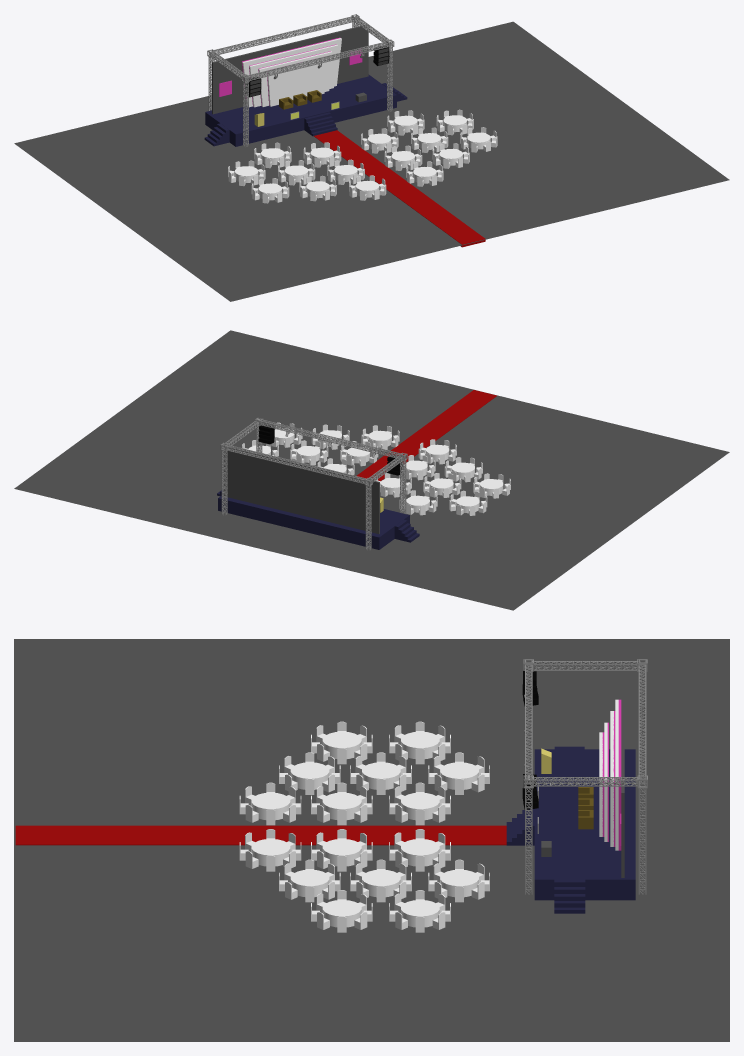
Rendered from vipdinner.glb.
3 views of the same model, one above another, from view 1: azimuth 30°, elevation 25°; view 2: azimuth 150°, elevation 25°; view 3: azimuth 270°, elevation 25° (orthographic). The views are drawn at different scales.
Parts seen in each view (by area): view 1: Plane001, Box001, Box6194, Box654, Box6232, Box6094, Box6095, Box6233, Box3884; view 2: Plane001, Box654, Box001, Box6194; view 3: Plane001, Box001, Box6194, Box652, Box3884, Box654, Cylinder018, Cylinder028, Cylinder015, Cylinder017, Cylinder020, Cylinder016 (+10 smaller).
Boxes of the visible parts, x1,y1,x2,y2 form: Plane001: (14, 21, 729, 301); Box001: (205, 74, 396, 146); Box6194: (314, 130, 485, 247); Box654: (212, 26, 368, 114); Box6232: (267, 58, 326, 106); Box6094: (242, 38, 341, 107); Box6095: (249, 44, 337, 107); Box6233: (258, 51, 332, 106); Box3884: (304, 112, 337, 136); Plane001: (14, 330, 729, 610); Box654: (223, 444, 379, 533); Box001: (218, 496, 409, 549); Box6194: (356, 390, 496, 481); Plane001: (14, 639, 729, 1041); Box001: (534, 749, 635, 900); Box6194: (15, 825, 506, 845); Box652: (554, 879, 585, 913); Box3884: (506, 809, 534, 845); Box654: (621, 668, 624, 877); Cylinder018: (251, 839, 290, 866); Cylinder028: (322, 900, 361, 927); Cylinder015: (322, 792, 361, 819); Cylinder017: (251, 792, 290, 820); Cylinder020: (362, 762, 400, 789); Cylinder016: (322, 839, 361, 866).
Bounding box in the file's own units: 16.96 × 2.38 × 12.74.
